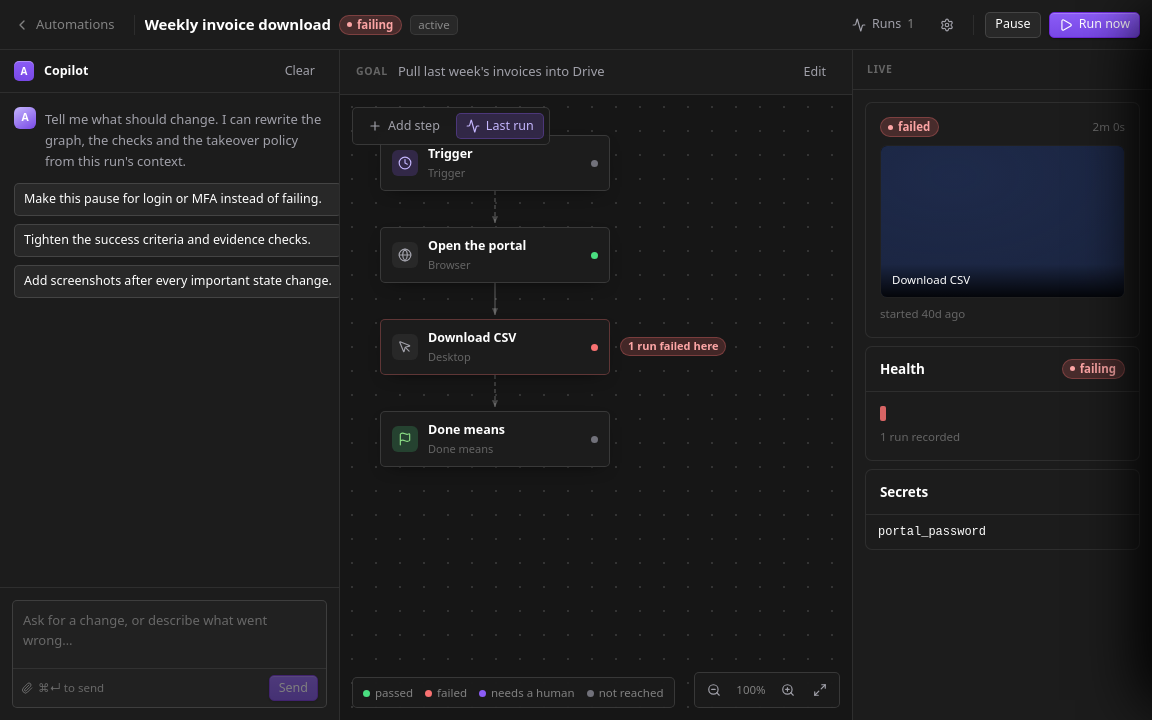
it: AutomationWorkspace › opens the success criteria from the done-means node
Click the button "Done means Done means". click: x=495, y=439
box: [380,411,610,467]
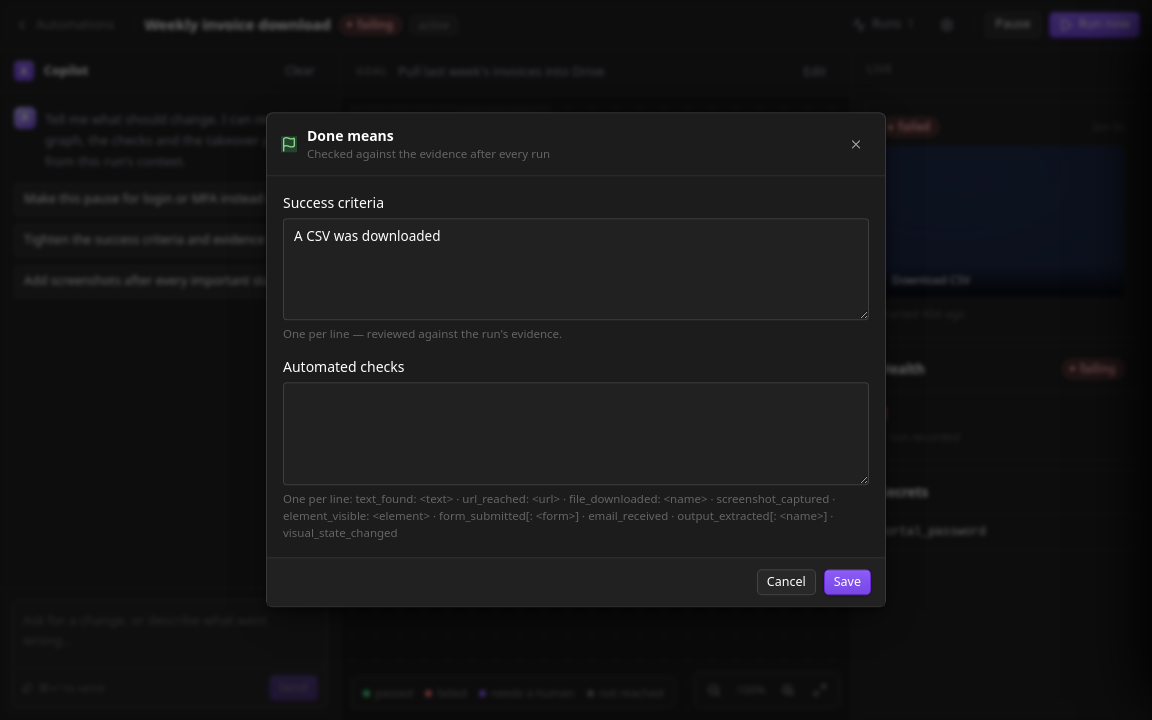
Expected: the text box showing "A CSV was downloaded" is shown, [283,218,869,320]
